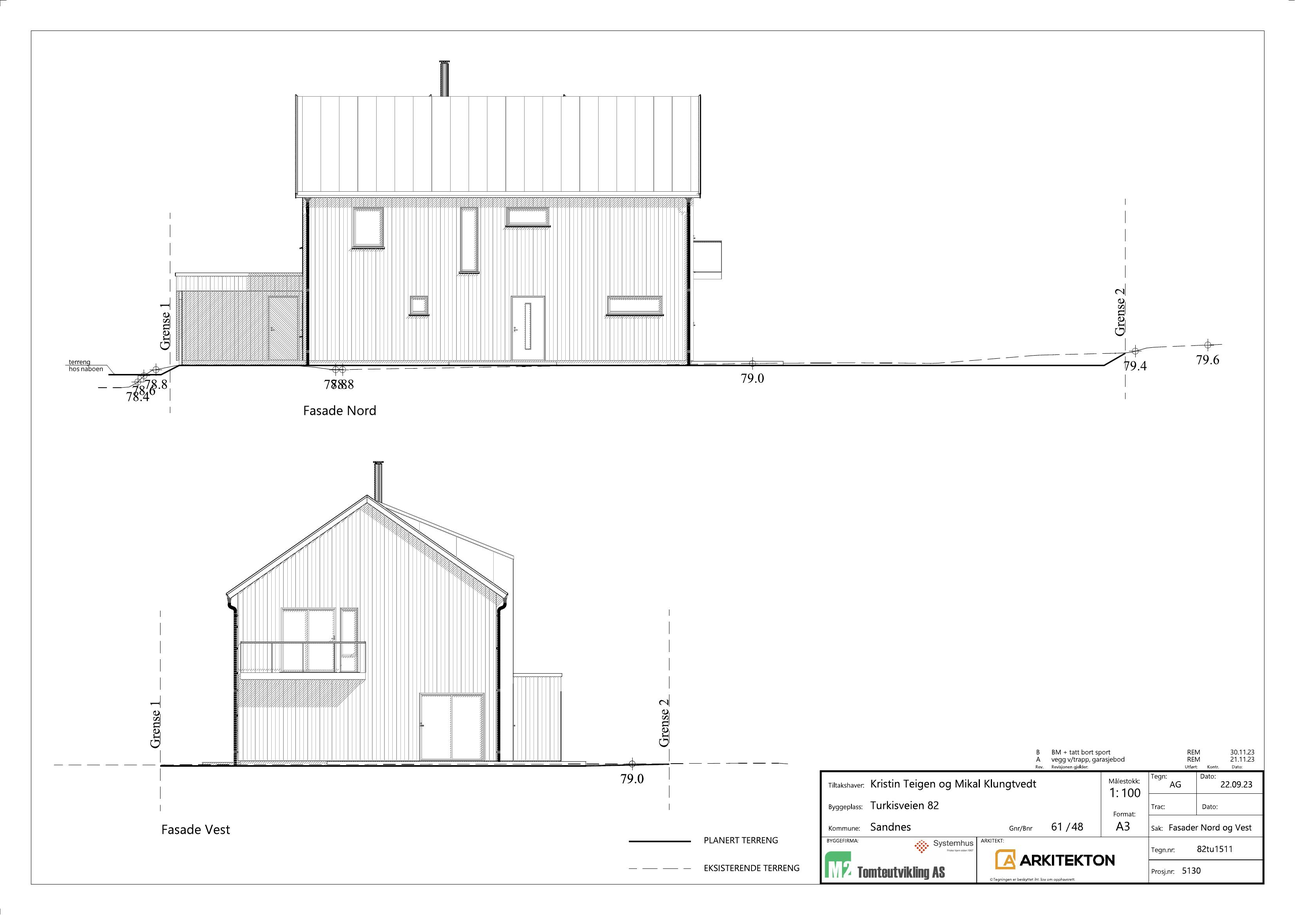fasade: (169, 56, 725, 379), (199, 458, 589, 773)
